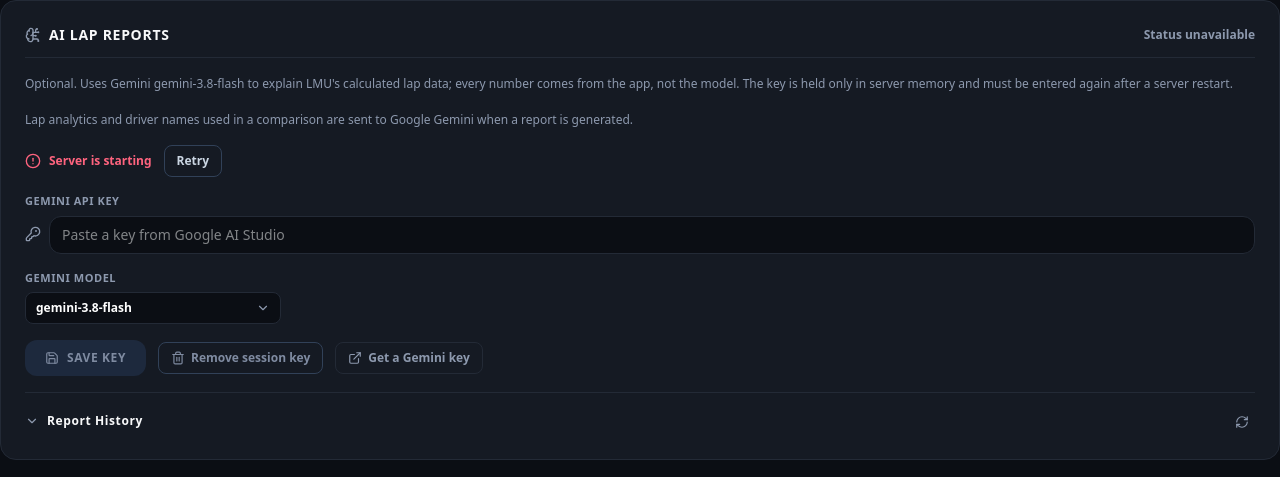
Gemini key handling › offers Retry when the key state cannot be read, and recovers
Expected: the message reads "Server is starting", [49, 152, 152, 169]
Click the button "Retry" at (193, 161), box [164, 145, 222, 177]
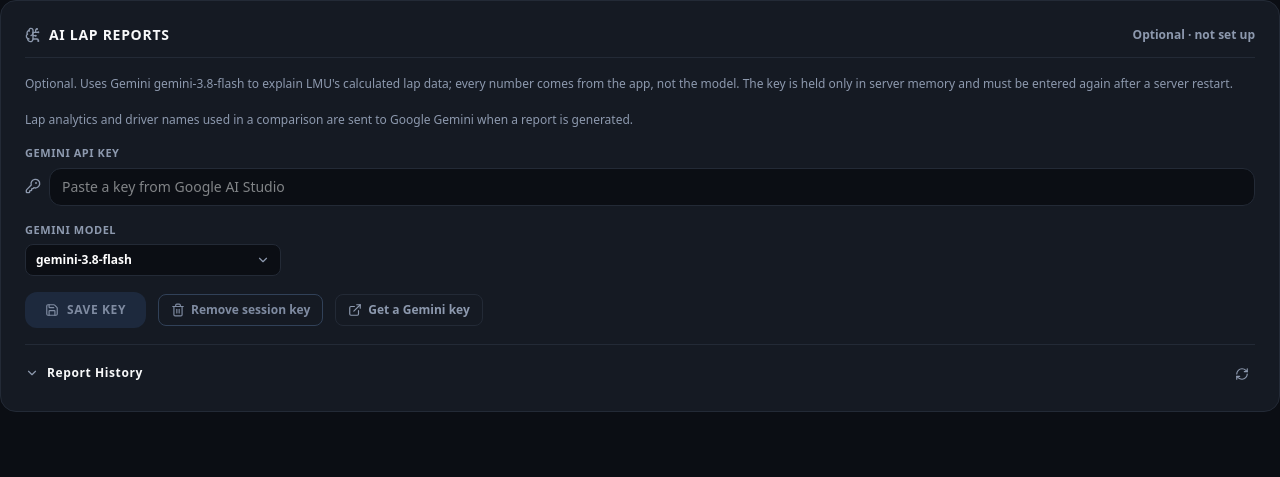
Now the text "Optional · not set up" is shown, box [1133, 27, 1255, 43]
Now the message "Server is starting" is gone
